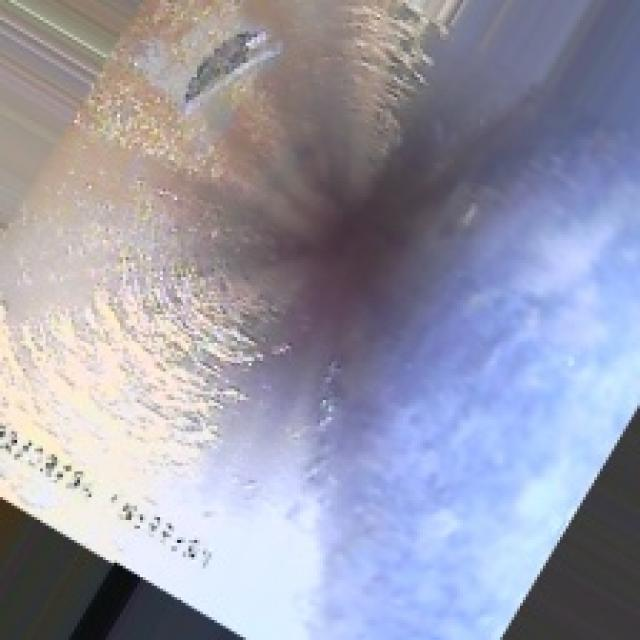pipe_surface_damage: (180, 23, 269, 103)
